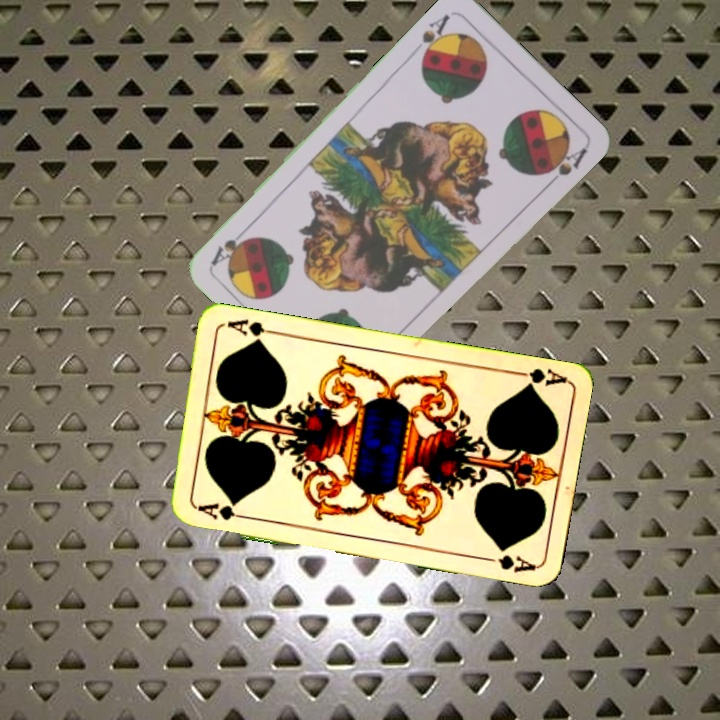GA: (508, 364, 568, 390), (191, 499, 250, 523)
SA: (408, 9, 453, 64)
